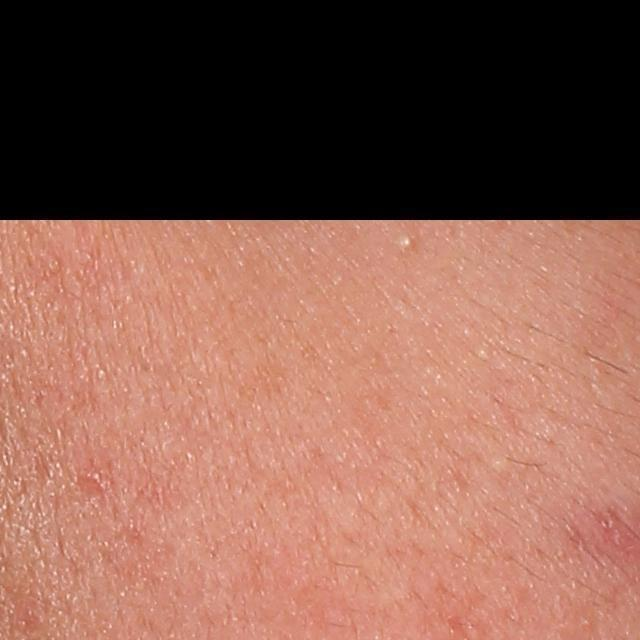comedo: (394, 229, 416, 255)
